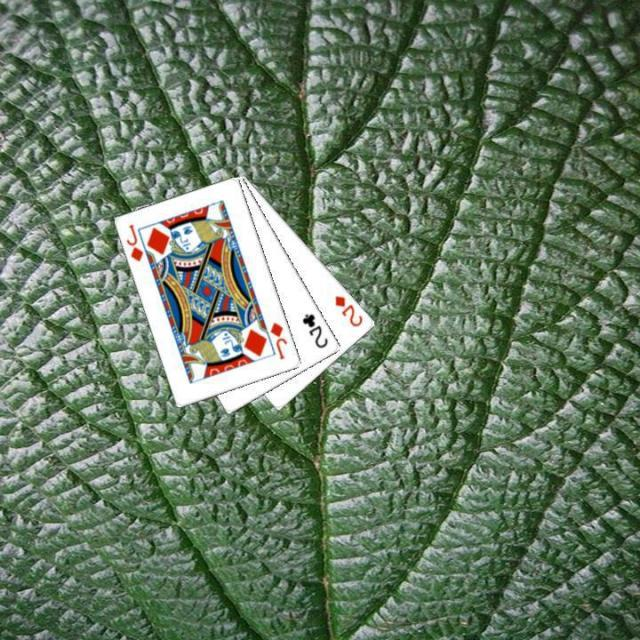2C: (299, 310, 330, 350)
2D: (332, 291, 365, 329)
JD: (123, 220, 146, 264), (267, 318, 289, 360)
